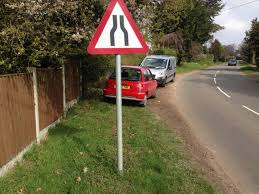Narrow_road: (85, 1, 150, 55)
